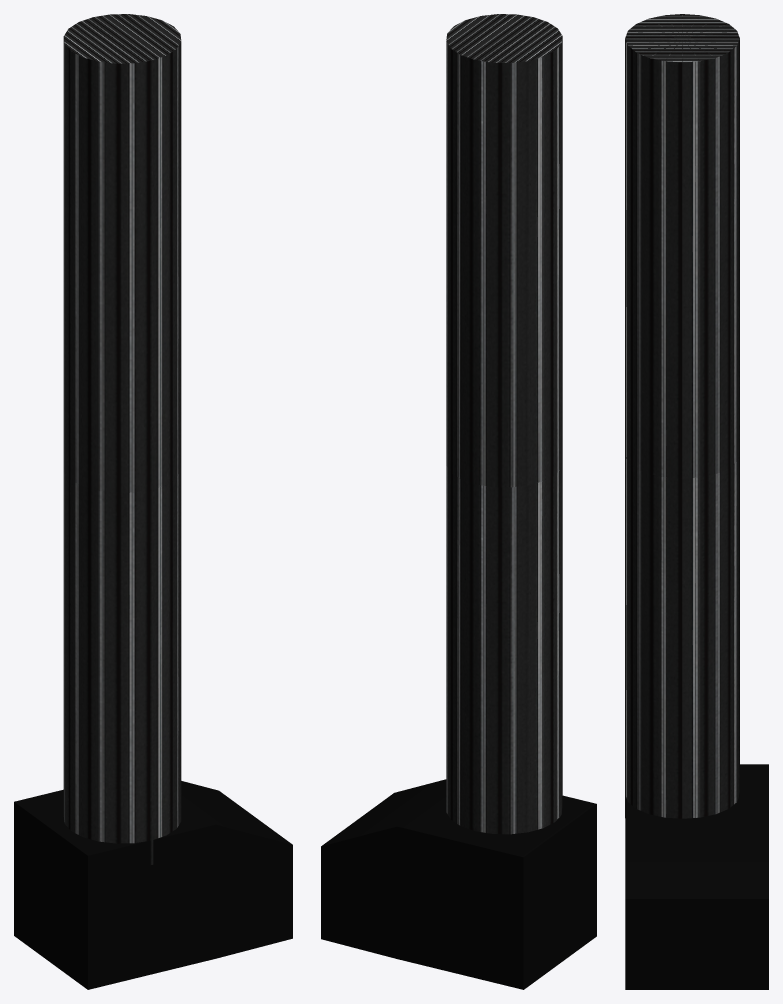
The model's file is pierna.obj.
3 renders of one model, left to right at view 1: azimuth 30°, elevation 25°; view 2: azimuth 150°, elevation 25°; view 3: azimuth 270°, elevation 25°, orthographic. The views are drawn at different scales.
Parts seen in each view (by area): view 1: polySurface58 polySurface42, polySurface42 polySurface56, pCube1; view 2: polySurface58 polySurface42, pCube1, polySurface42 polySurface56; view 3: polySurface58 polySurface42, polySurface42 polySurface56, pCube1.
Boxes of the visible parts, x1,y1,x2,y2 form: polySurface58 polySurface42: [63, 14, 181, 492]; polySurface42 polySurface56: [63, 466, 181, 864]; pCube1: [14, 781, 292, 989]; polySurface58 polySurface42: [446, 14, 562, 487]; pCube1: [321, 779, 596, 989]; polySurface42 polySurface56: [446, 461, 562, 834]; polySurface58 polySurface42: [625, 14, 739, 478]; polySurface42 polySurface56: [625, 454, 739, 818]; pCube1: [625, 764, 768, 989].
Size of the model in its own units: 80 by 341 by 50.08.
2 materials, 2 textured.
